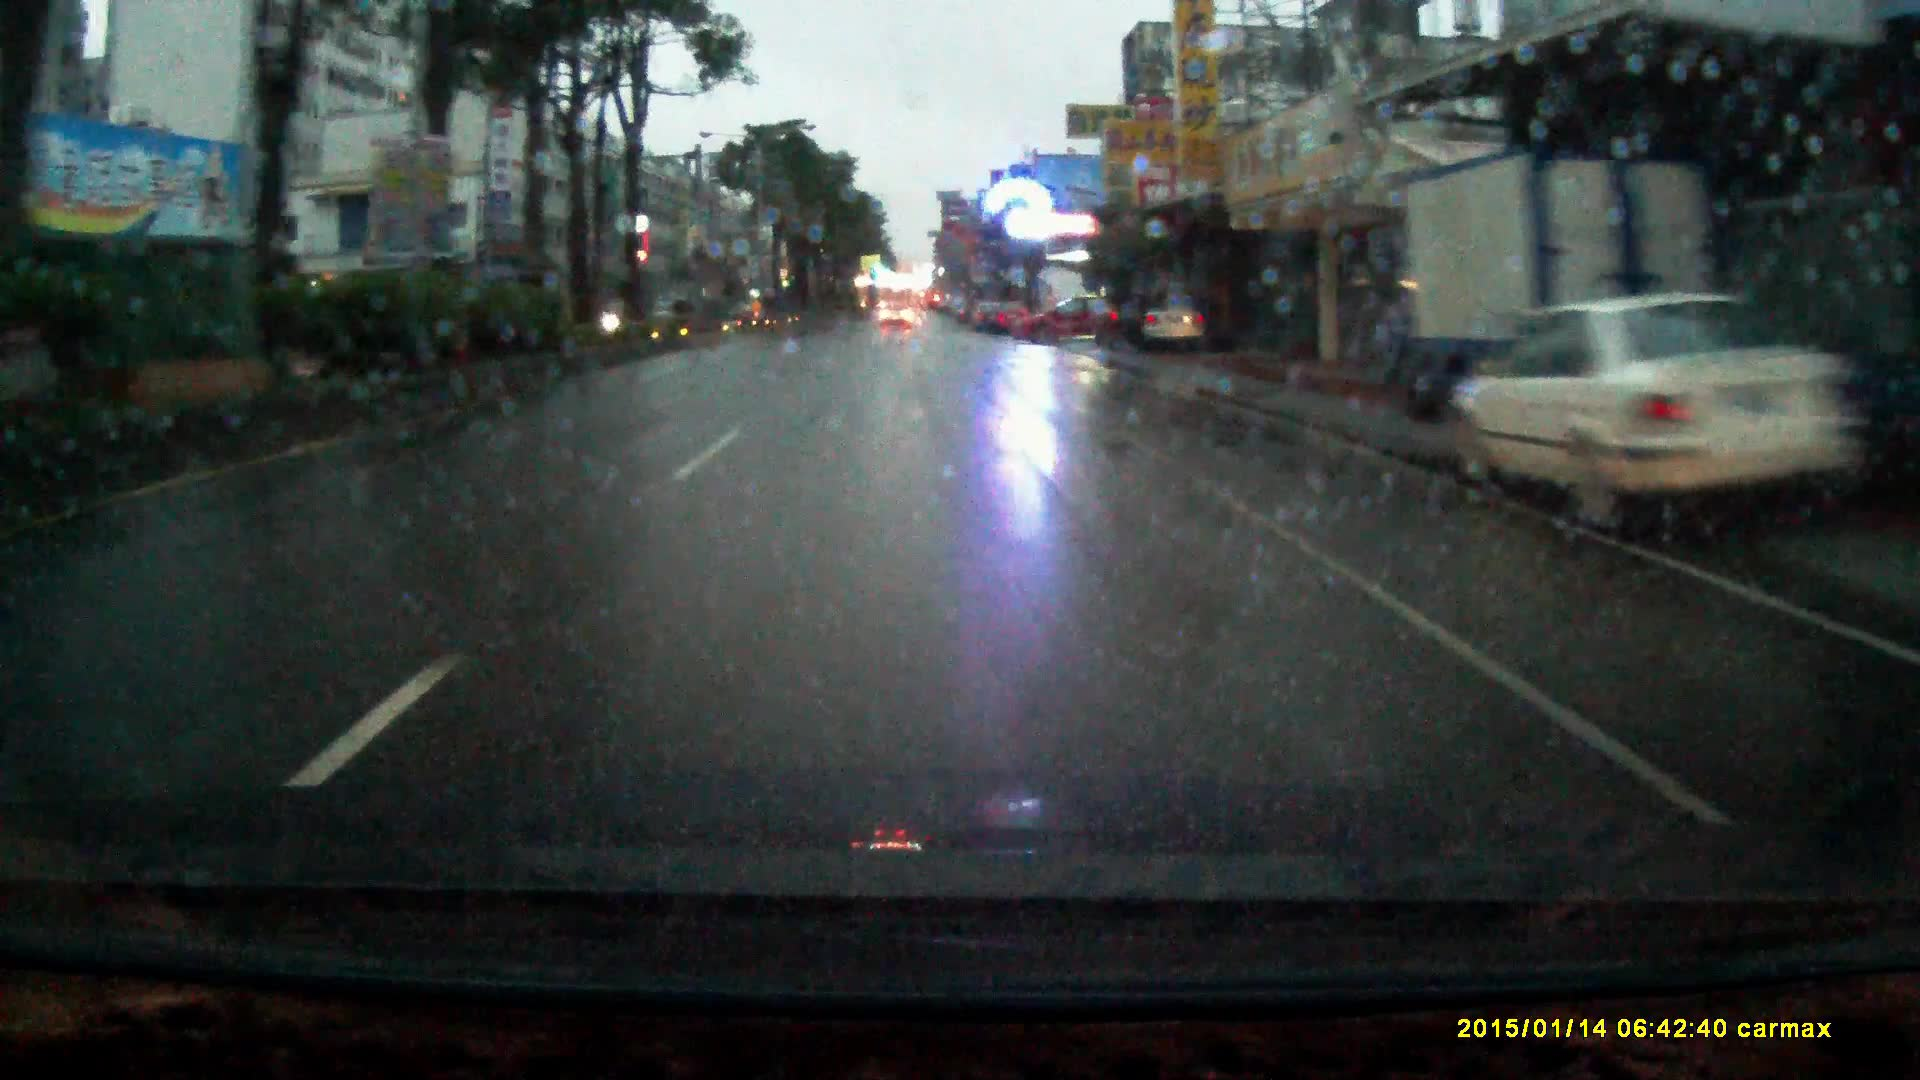vehicle: (1448, 294, 1888, 545), (1371, 117, 1734, 419), (1011, 291, 1120, 343), (1129, 291, 1211, 347), (1092, 291, 1159, 345), (989, 298, 1033, 332), (881, 303, 913, 330)
